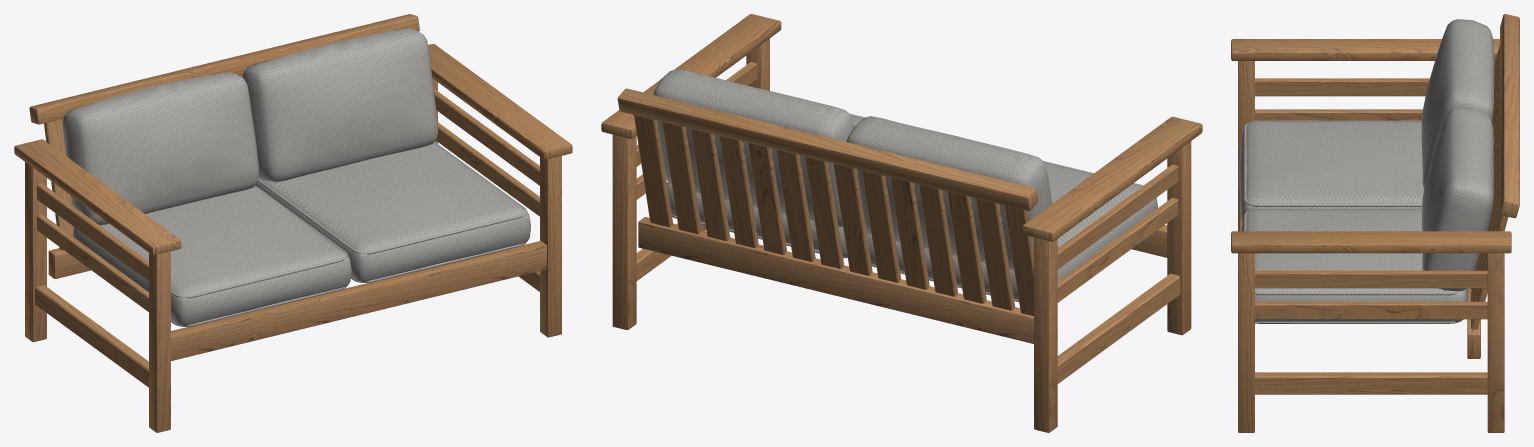
The model's file is sofa_teca_2p.glb.
3 views of the same model, side by side, from view 1: azimuth 30°, elevation 25°; view 2: azimuth 150°, elevation 25°; view 3: azimuth 270°, elevation 25° (orthographic). The views are drawn at different scales.
Parts seen in each view (by area): view 1: sofa_teca_2p; view 2: sofa_teca_2p; view 3: sofa_teca_2p.
Part boxes in pixels (<box>): sofa_teca_2p: <box>14,14,572,432</box>; sofa_teca_2p: <box>601,14,1202,432</box>; sofa_teca_2p: <box>1231,14,1519,432</box>.
Size of the model in its own units: 1.43 by 0.7603 by 0.8441.
Materials: 2 (2 with a texture image).
